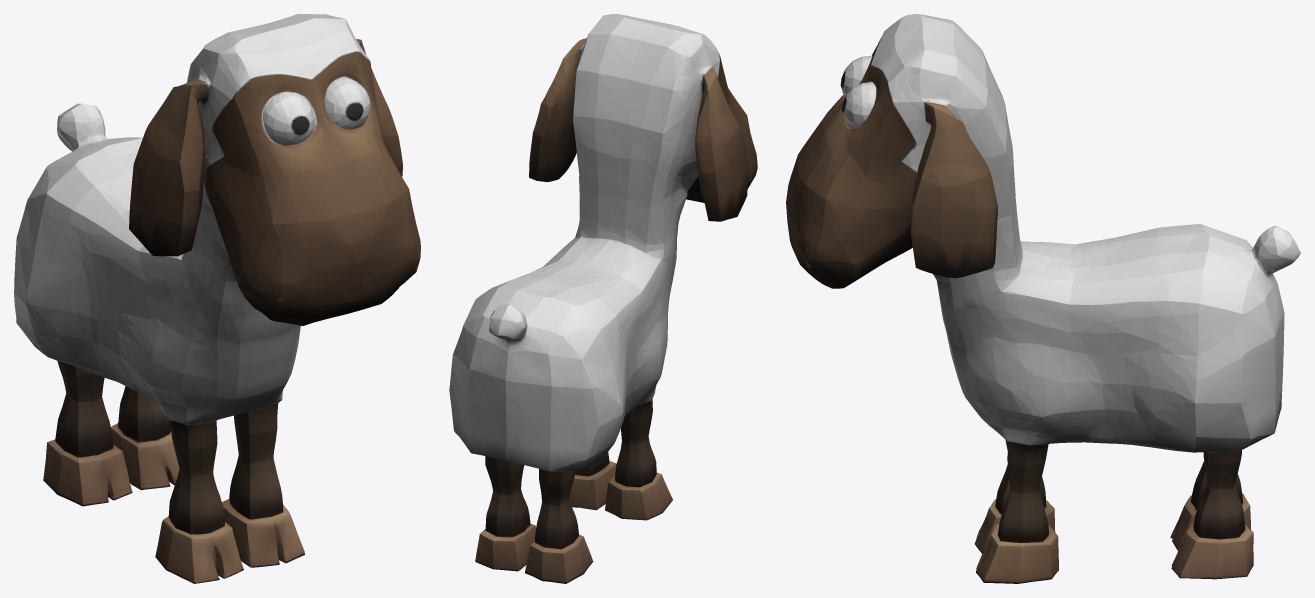
The model's file is original_slat.glb.
The picture shows the model from 3 angles, left to right: view 1: azimuth 30°, elevation 25°; view 2: azimuth 150°, elevation 25°; view 3: azimuth 270°, elevation 25°; orthographic projection. The views are drawn at different scales.
Visible parts, largest first — view 1: world; view 2: world; view 3: world.
Part boxes in pixels (x1,y1,x2,y2): world: [14, 14, 420, 583]; world: [449, 14, 757, 583]; world: [786, 14, 1300, 583].
Bounding box in the file's own units: 0.3359 × 0.7504 × 0.6685.
Materials: 1 (1 with a texture image).
